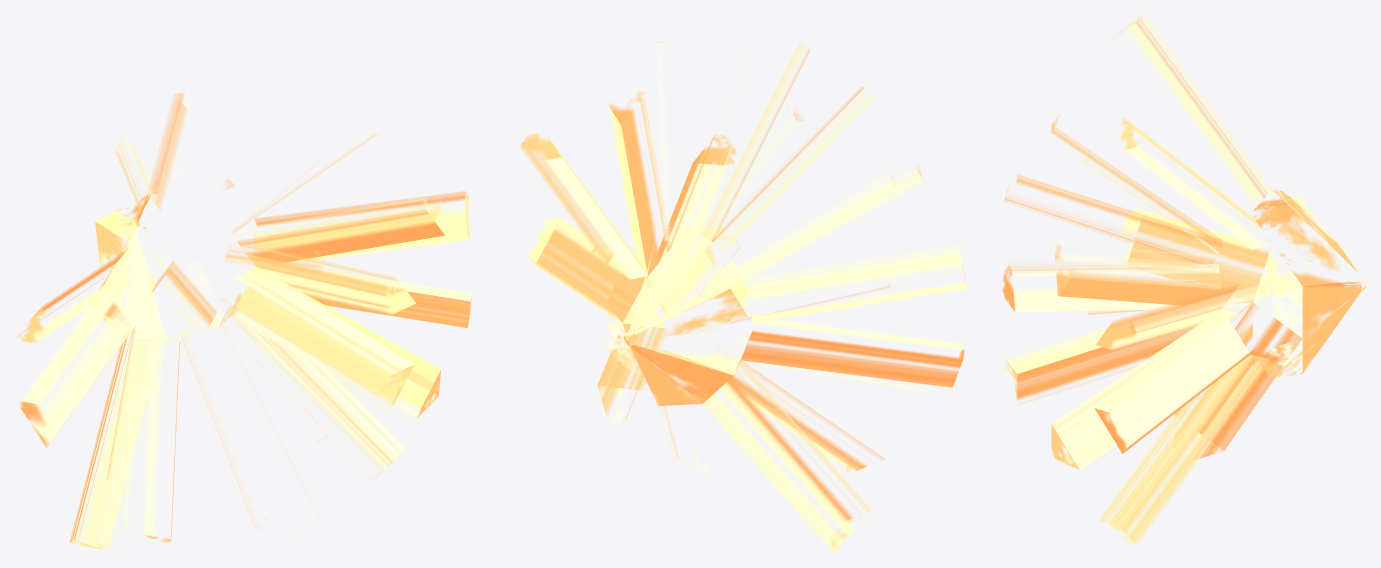
3 renders of one model, left to right at view 1: azimuth 30°, elevation 25°; view 2: azimuth 150°, elevation 25°; view 3: azimuth 270°, elevation 25°, orthographic.
Visible parts, largest first — view 1: Icosphere; view 2: Icosphere; view 3: Icosphere.
Part boxes in pixels (<box>): Icosphere: <box>17,92,471,550</box>; Icosphere: <box>520,42,966,553</box>; Icosphere: <box>1002,14,1366,546</box>.
Size of the model in its own units: 0.5451 by 0.5215 by 0.373.
Materials: 1 (1 with a texture image).
